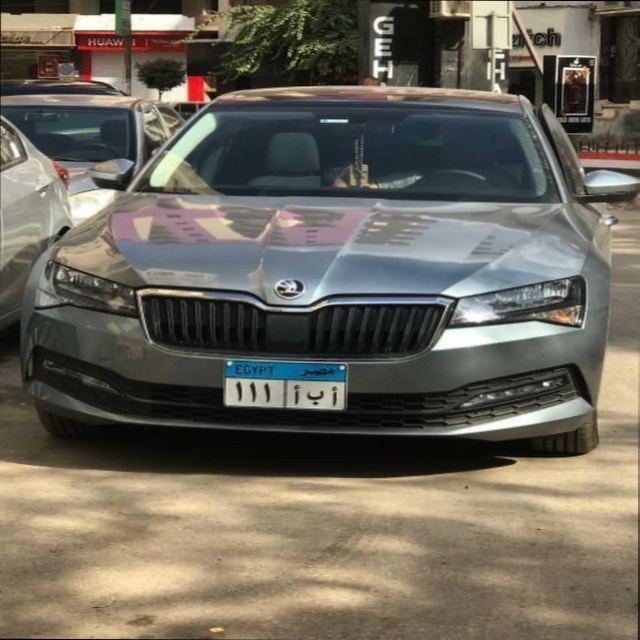License Plate: (222, 359, 351, 414)
